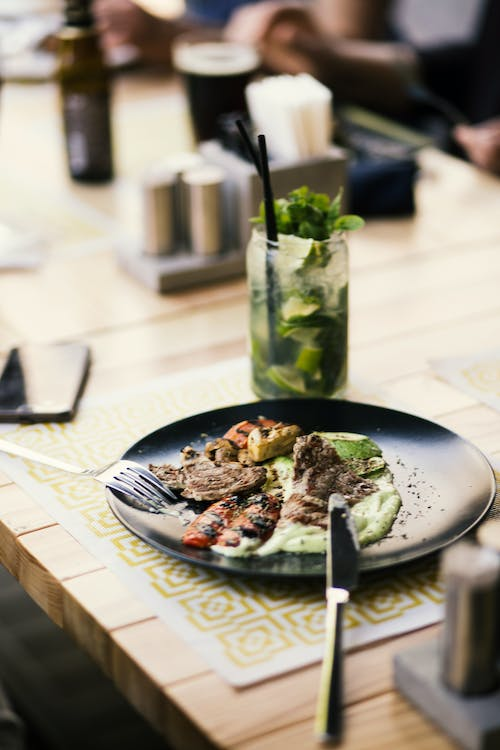knife: (314, 490, 360, 750)
